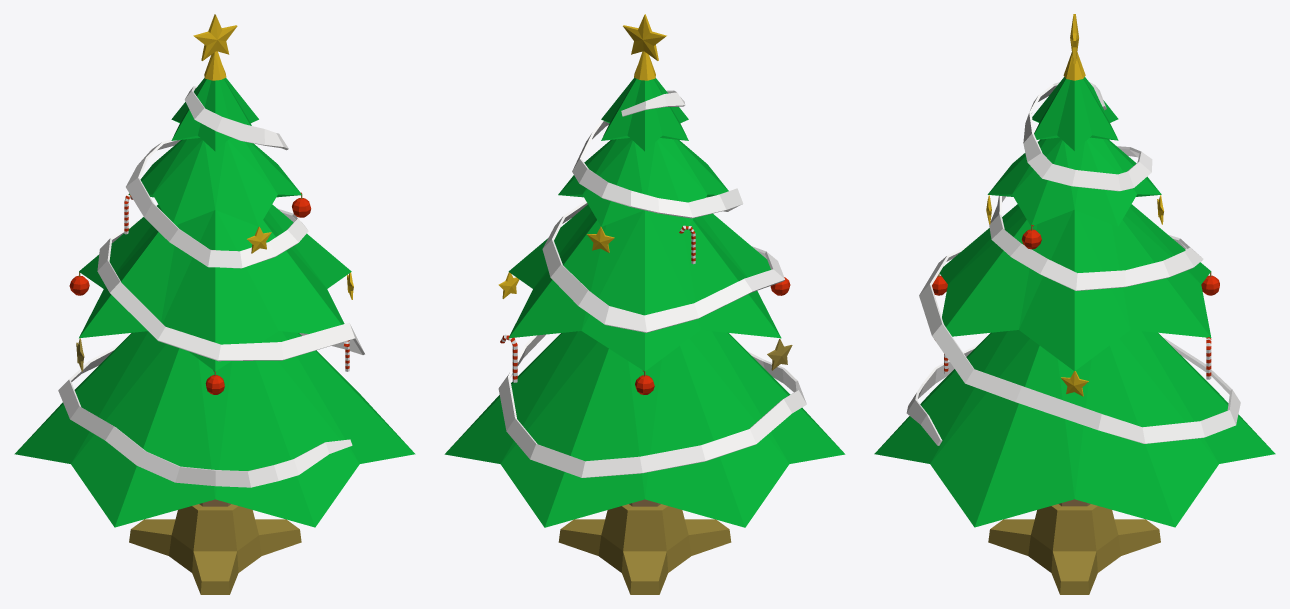
Rendered from WinterTree.fbx.
3 renders of one model, left to right at view 1: azimuth 30°, elevation 25°; view 2: azimuth 150°, elevation 25°; view 3: azimuth 270°, elevation 25°, orthographic.
Visible parts, largest first — view 1: Tree Decorated, TopStar; view 2: Tree Decorated, TopStar; view 3: Tree Decorated, TopStar.
Boxes of the visible parts, left/top/right/bottom form: Tree Decorated: left=14, top=78, right=415, bottom=594; TopStar: left=193, top=14, right=237, bottom=80; Tree Decorated: left=444, top=77, right=845, bottom=594; TopStar: left=623, top=14, right=666, bottom=80; Tree Decorated: left=874, top=77, right=1275, bottom=594; TopStar: left=1063, top=14, right=1085, bottom=80.
Size of the model in its own units: 133 by 229 by 154.
